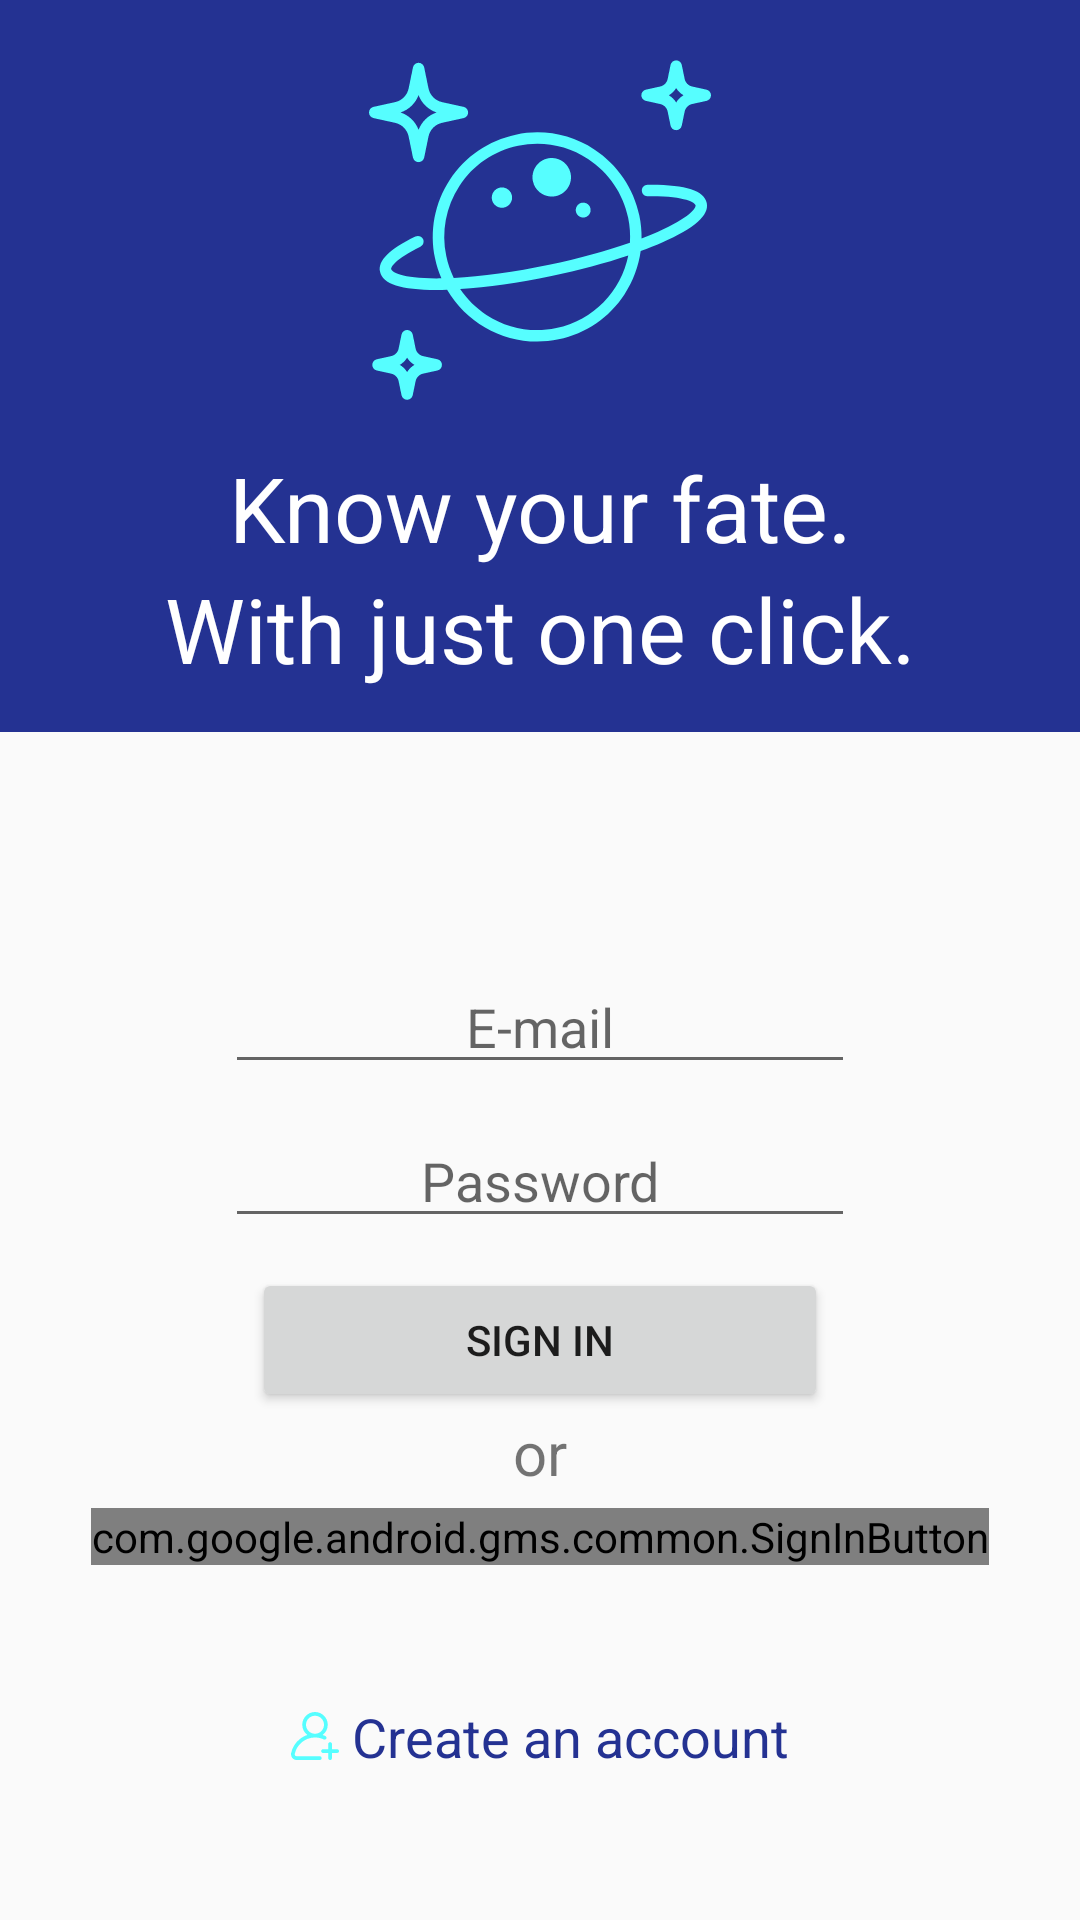

Where to tap for icons on this 1080 × 1920 app screen, as [x,y]:
astrology: [540,230]
